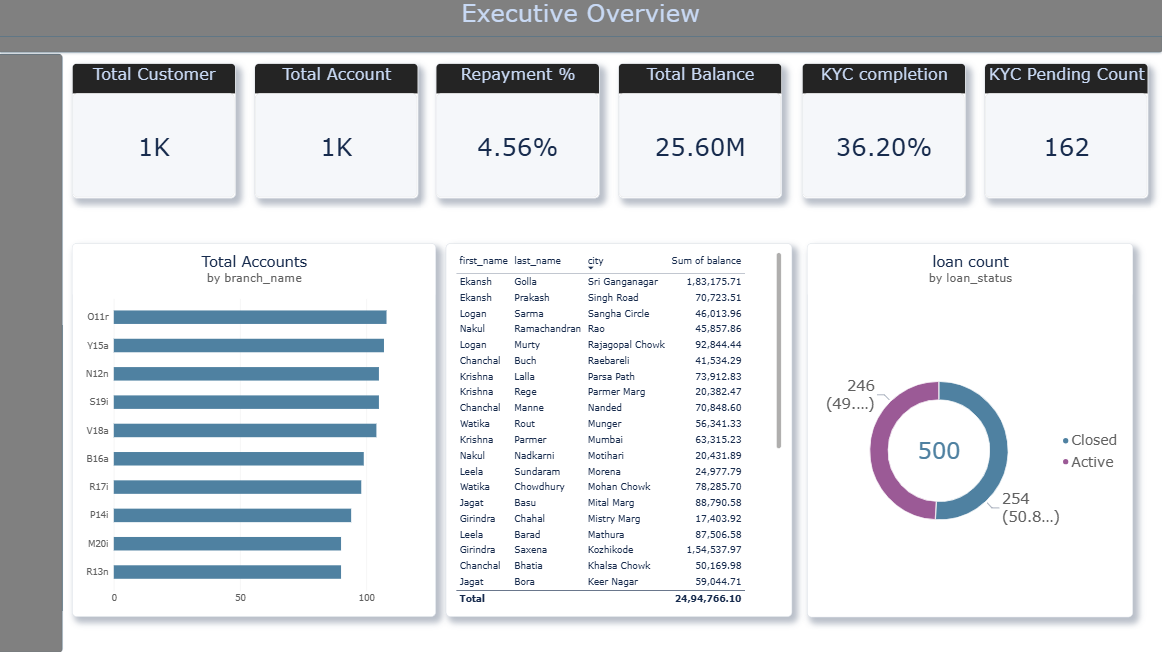

This screenshot's page, from the dashboard's own definition file:
{"tool":"powerbi","page":{"name":"Executive Overview","canvas":[1920,1080],"ordinal":0},"visuals":[{"type":"cardVisual","title":"Total Account","fields":{"Data":["Total Customer.Total Accounts"]},"box":[424,109.1,269.6,222.3],"z":0},{"type":"cardVisual","title":"Total Customer","fields":{"Data":["Total Customer.Total Customer"]},"box":[123.5,109.1,269.6,222.3],"z":1000},{"type":"cardVisual","title":"Repayment % ","fields":{"Data":["calculate measure.Repayment %"]},"box":[722.5,109.1,269.6,222.3],"z":2000},{"type":"shape","title":"Executive Overview","box":[0,0,1920.4,92.6],"z":3000},{"type":"shape","box":[0,92.6,109.1,988],"z":4000},{"type":"cardVisual","title":"Total Balance","fields":{"Data":["Total Customer.Total Balance"]},"box":[1023,109.1,269.6,222.3],"z":5000},{"type":"cardVisual","title":"KYC completion","fields":{"Data":["Total Customer.KYC Completed %"]},"box":[1325.6,109.1,269.6,222.3],"z":6000},{"type":"barChart","fields":{"Category":["branches.branch_name"],"Y":["Total Customer.Total Accounts"]},"box":[123.5,405.5,599,615.4],"z":7000},{"type":"donutChart","fields":{"Category":["loans1.loan_status"],"Y":["Total Customer.loan count"]},"box":[1334.7,406.1,536.7,616.3],"z":8000},{"type":"cardVisual","title":"KYC Pending Count","fields":{"Data":["calculate measure.KYC Pending Count"]},"box":[1626.1,109.1,269.6,222.3],"z":9000},{"type":"tableEx","fields":{"Values":["updated_customersdata.first_name","updated_customersdata.last_name","updated_customersdata.city","Sum(accountsdata.balance)"]},"box":[738.9,405.5,570.2,615.4],"z":10000},{"type":"actionButton","box":[0,0,100,40],"z":11000}]}

Visuals, with their boxes in screenshot pixels (x1, y1, x2, y2), scaled from the page's 1920x1080 canvas onto the 1162x652 screenshot:
"Total Account" cardVisual: pyautogui.locateOnScreen(257, 66, 420, 200)
"Total Customer" cardVisual: pyautogui.locateOnScreen(75, 66, 238, 200)
"Repayment % " cardVisual: pyautogui.locateOnScreen(437, 66, 600, 200)
"Executive Overview" shape: pyautogui.locateOnScreen(0, 0, 1161, 56)
shape: pyautogui.locateOnScreen(0, 56, 66, 651)
"Total Balance" cardVisual: pyautogui.locateOnScreen(619, 66, 782, 200)
"KYC completion" cardVisual: pyautogui.locateOnScreen(802, 66, 965, 200)
barChart - branches.branch_name x Total Customer.Total Accounts: pyautogui.locateOnScreen(75, 245, 437, 616)
donutChart - loans1.loan_status x Total Customer.loan count: pyautogui.locateOnScreen(808, 245, 1133, 617)
"KYC Pending Count" cardVisual: pyautogui.locateOnScreen(984, 66, 1147, 200)
tableEx - updated_customersdata.first_name x updated_customersdata.last_name: pyautogui.locateOnScreen(447, 245, 792, 616)
actionButton: pyautogui.locateOnScreen(0, 0, 61, 24)
